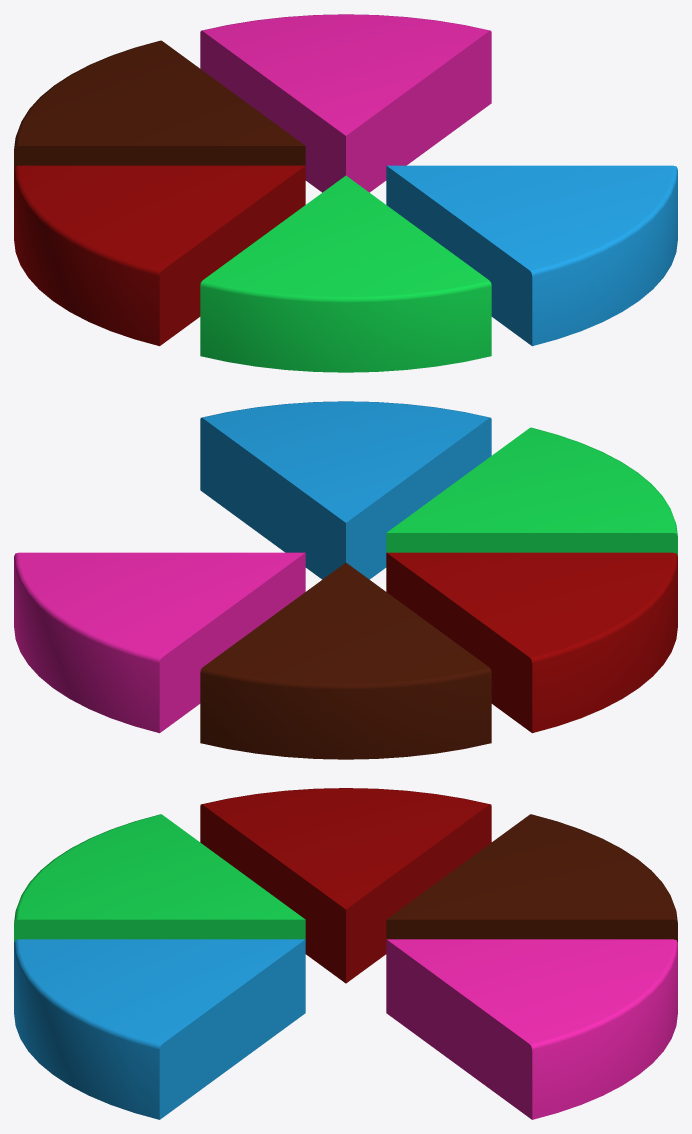
Rendered from MD_Map_Cake.FBX.
The picture shows the model from 3 angles, top to bottom: view 1: azimuth 30°, elevation 25°; view 2: azimuth 150°, elevation 25°; view 3: azimuth 270°, elevation 25°; orthographic projection.
Visible parts, largest first — view 1: Mint, Candy_Cane, Ice, Pink, Chocolate; view 2: Chocolate, Pink, Candy_Cane, Ice, Mint; view 3: Pink, Ice, Candy_Cane, Chocolate, Mint.
Part boxes in pixels (x1,y1,x2,y2): Mint: (200,175,491,372); Candy_Cane: (14,165,305,346); Ice: (386,165,677,346); Pink: (200,14,491,192); Chocolate: (14,40,305,168); Chocolate: (200,562,491,759); Pink: (14,552,305,733); Candy_Cane: (386,552,677,733); Ice: (200,401,491,579); Mint: (386,427,677,555); Pink: (386,939,677,1119); Ice: (14,939,305,1119); Candy_Cane: (200,788,491,983); Chocolate: (386,814,677,942); Mint: (14,814,305,942).
Bounding box in the file's own units: 263 × 35 × 285.
